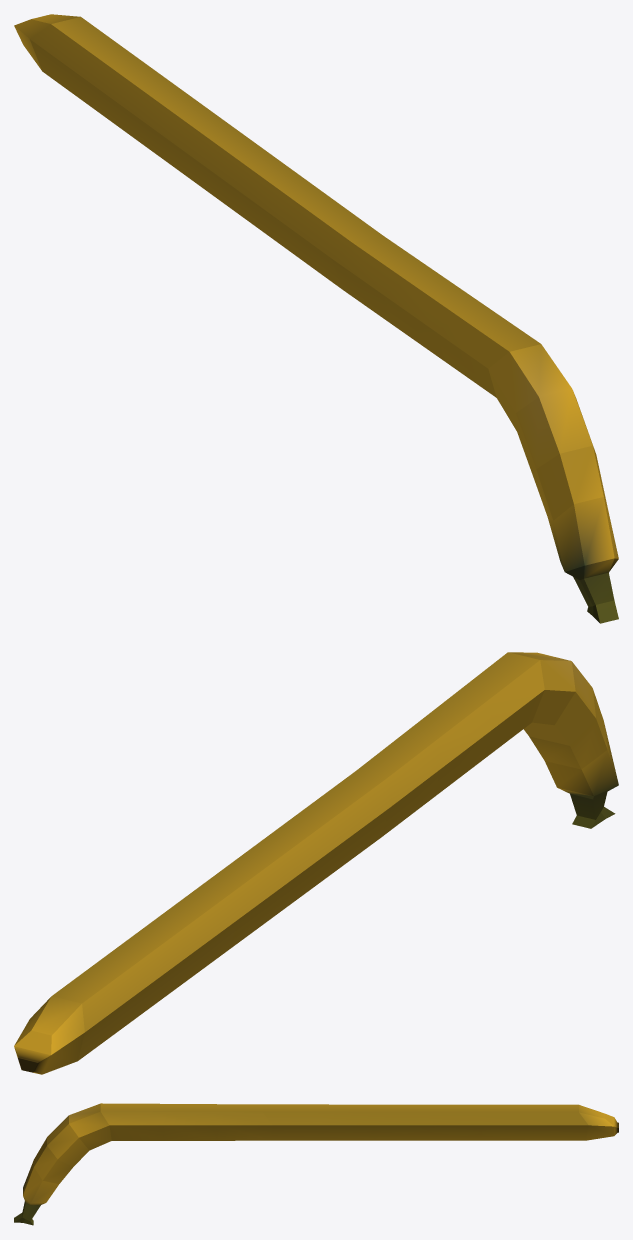
The model's file is banana_sniper.glb.
3 renders of one model, top to bottom at view 1: azimuth 30°, elevation 25°; view 2: azimuth 150°, elevation 25°; view 3: azimuth 270°, elevation 25°, orthographic. The views are drawn at different scales.
Visible parts, largest first — view 1: BananaSniper; view 2: BananaSniper; view 3: BananaSniper.
Part boxes in pixels (left/top/right/bottom): BananaSniper: left=14, top=14, right=618, bottom=623; BananaSniper: left=14, top=652, right=618, bottom=1074; BananaSniper: left=14, top=1103, right=618, bottom=1225.
Bounding box in the file's own units: 0.0354 × 0.118 × 0.569.
